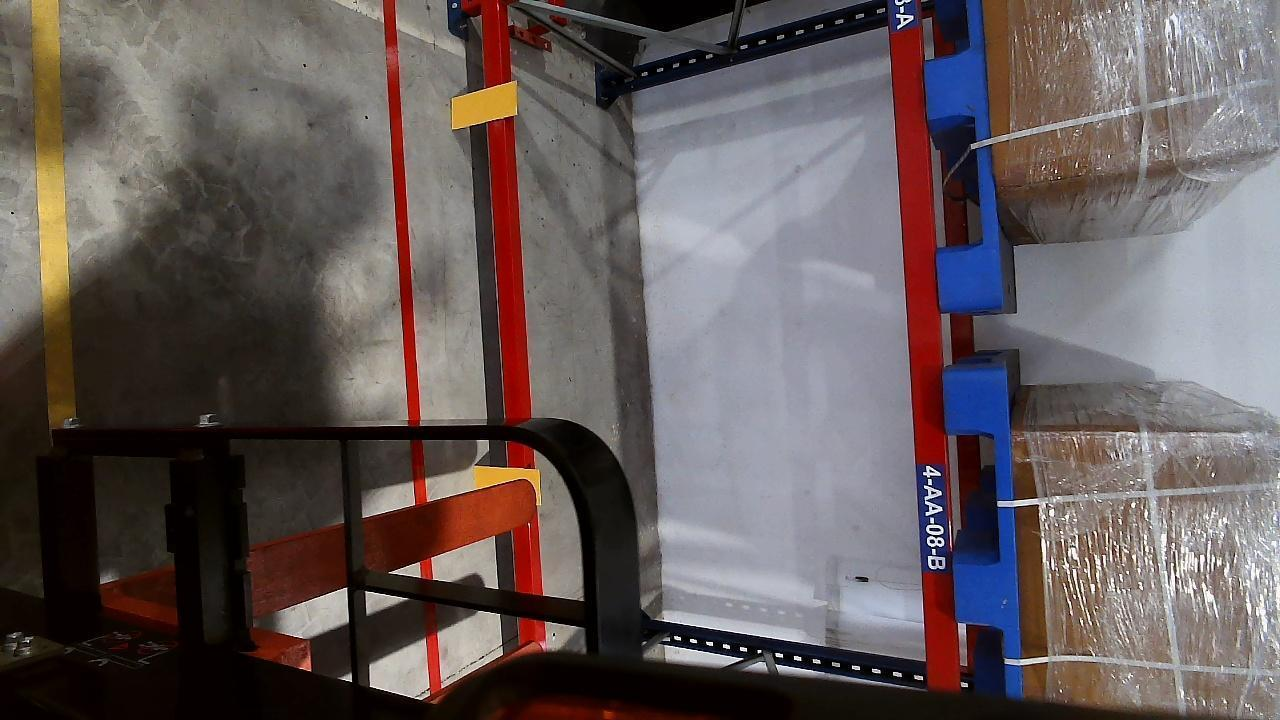red_line: (381, 0, 447, 691)
yellow_line: (31, 0, 73, 425)
